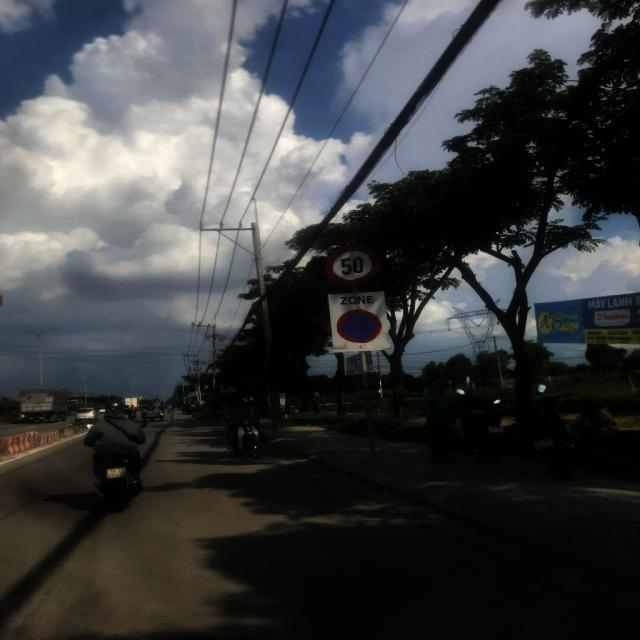cam_dung_xe_va_do_xe: (337, 309, 382, 343)
toc_do_toi_da_50: (326, 246, 381, 289)
